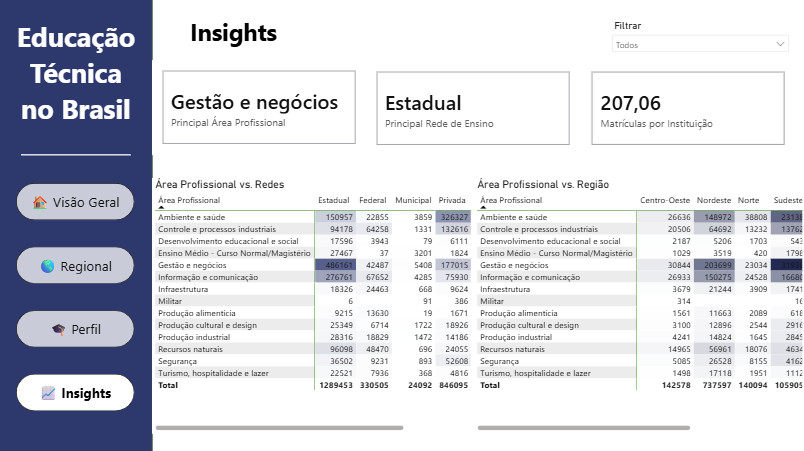

This screenshot's page, from the dashboard's own definition file:
{"tool":"powerbi","page":{"name":"📈 Insights","canvas":[1280,720],"ordinal":3},"visuals":[{"type":"shape","box":[0,0,243.6,720.1],"z":0},{"type":"pageNavigator","box":[27.5,293.7,188.6,364.5],"z":1000},{"type":"textbox","box":[16.7,27.5,209.2,183.7],"z":2000},{"type":"shape","box":[34.4,211.2,173.9,75.6],"z":3000},{"type":"textbox","box":[243.1,23.1,258.5,76.9],"z":4000},{"type":"slicer","fields":{"Values":["fato_matriculas_tecnicas_2025.regiao","fato_matriculas_tecnicas_2025.uf","fato_matriculas_tecnicas_2025.rede","fato_matriculas_tecnicas_2025.municipio"]},"box":[962.9,27.8,300,67],"z":5000},{"type":"pivotTable","title":"Área Profissional vs. Redes","fields":{"Rows":["fato_matriculas_tecnicas_2025.area_curso_profissional"],"Columns":["fato_matriculas_tecnicas_2025.rede"],"Values":["fato_matriculas_tecnicas_2025.Total Matrículas"]},"box":[243.1,286.2,510.8,406.2],"z":6000},{"type":"pivotTable","title":"Área Profissional vs. Região","fields":{"Columns":["fato_matriculas_tecnicas_2025.regiao"],"Values":["fato_matriculas_tecnicas_2025.Total Matrículas"],"Rows":["fato_matriculas_tecnicas_2025.area_curso_profissional"]},"box":[753.8,286.2,526.2,406.2],"z":7000},{"type":"cardVisual","fields":{"Data":["Min(fato_matriculas_tecnicas_2025.area_curso_profissional)"]},"box":[243.1,98.5,340,150.8],"z":8000},{"type":"cardVisual","fields":{"Data":["Min(fato_matriculas_tecnicas_2025.rede)"]},"box":[583.1,100,340,150.8],"z":8002},{"type":"cardVisual","fields":{"Data":["fato_matriculas_tecnicas_2025.Matrículas por Instituição"]},"box":[923.1,100,340,150.8],"z":8003}]}

Visuals, with their boxes in screenshot pixels (x1, y1, x2, y2), scaled from the page's 1280x720 canvas onto the 804x451 screenshot:
shape: BBox(0, 0, 153, 450)
pageNavigator: BBox(17, 184, 136, 412)
textbox: BBox(10, 17, 142, 132)
shape: BBox(22, 132, 131, 180)
textbox: BBox(153, 14, 315, 63)
slicer - fato_matriculas_tecnicas_2025.regiao x fato_matriculas_tecnicas_2025.uf: BBox(605, 17, 793, 59)
"Área Profissional vs. Redes" pivotTable: BBox(153, 179, 474, 434)
"Área Profissional vs. Região" pivotTable: BBox(473, 179, 803, 434)
cardVisual - Min(fato_matriculas_tecnicas_2025.area_curso_profissional): BBox(153, 62, 366, 156)
cardVisual - Min(fato_matriculas_tecnicas_2025.rede): BBox(366, 63, 580, 157)
cardVisual - fato_matriculas_tecnicas_2025.Matrículas por Instituição: BBox(580, 63, 793, 157)
